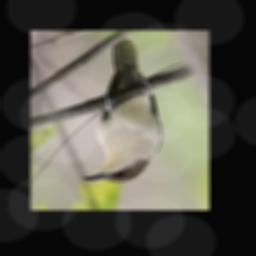Cuckoo: (81, 35, 162, 183)
